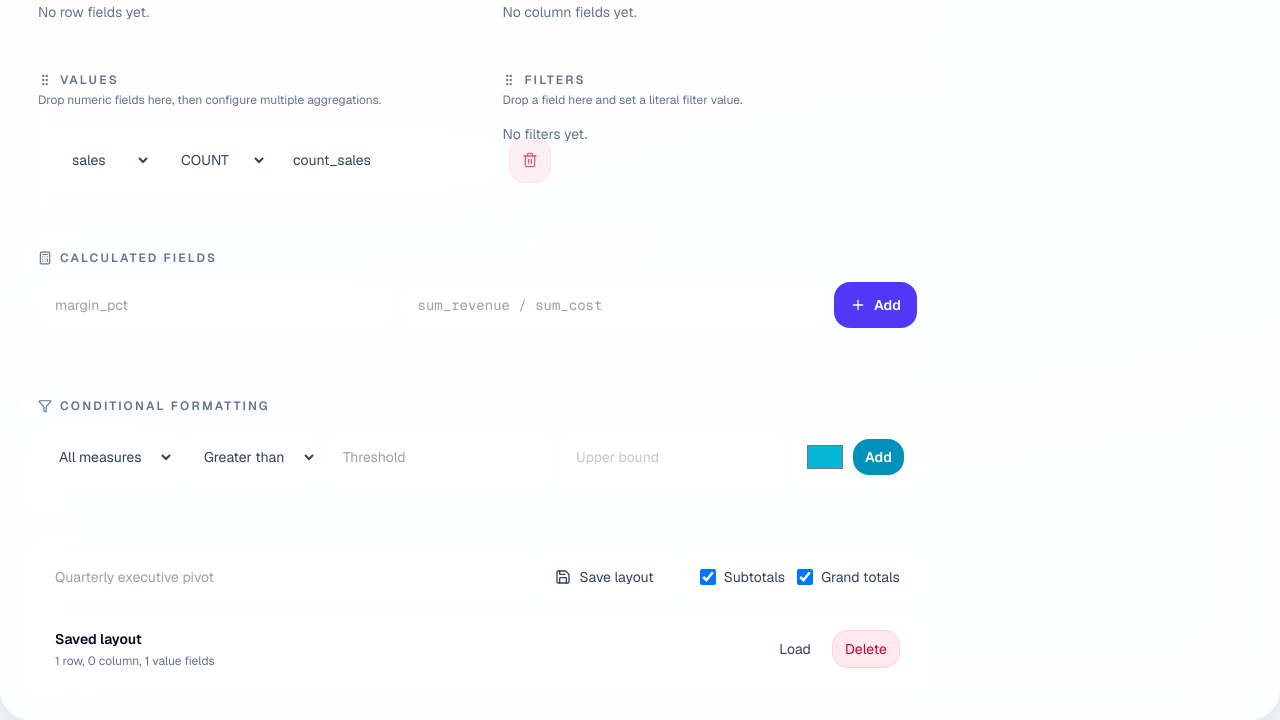
it: PivotConfigurator › shows query failures in the notice banner
(page scrolled)
Click the button "Load" at (795, 649), box 766,630 -> 824,668
(page scrolled)
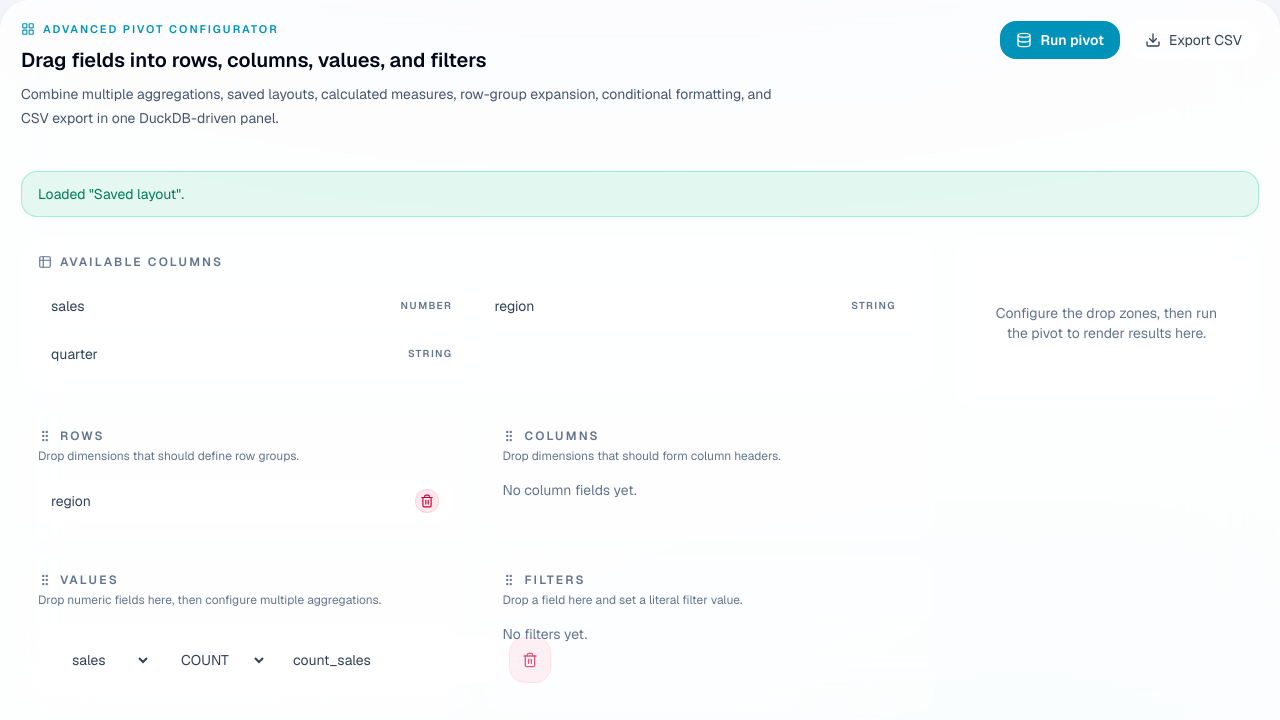
Check: the text "Loaded \"Saved layout\"." is shown, box 21,170 -> 1259,216
Click the button "Run pivot" at (1060, 40), box 1000,21 -> 1120,59
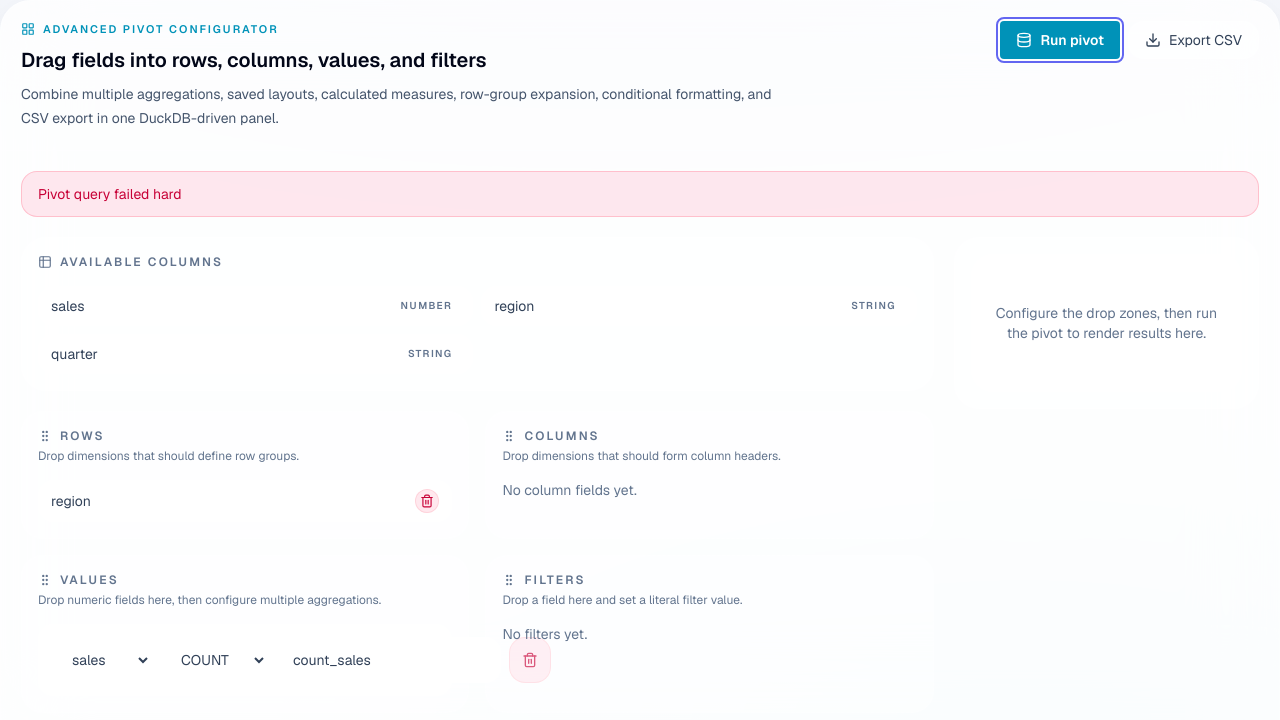
Check: the text "Pivot query failed hard" is shown, box 21,170 -> 1259,216
